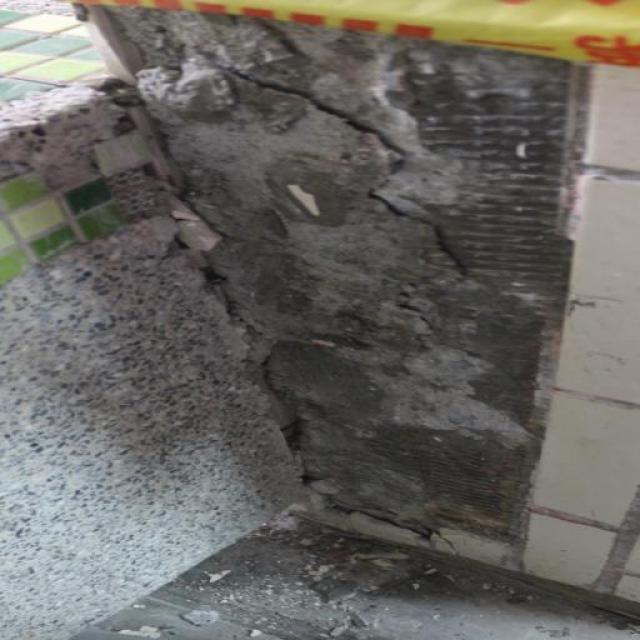D10: (108, 8, 585, 565)
